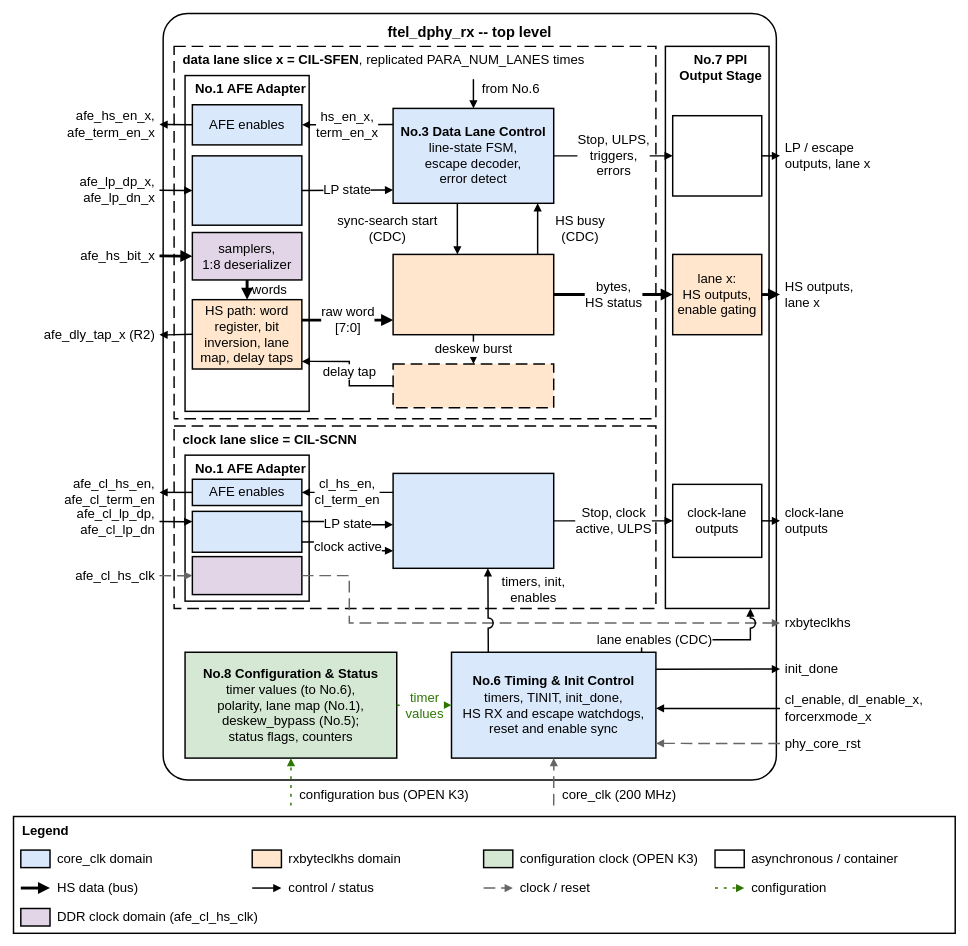
The diagram is 968 pixels wide and 946 high, and some of its shapes have lost their labels. Each missing label, with the centre of its shape:
"byte clock, /4 and gate" goes at point (246, 575).
"lane x: LP, escape, errors" goes at point (717, 155).
"LP path, clock activity" goes at point (246, 531).
"LP path: sync, filter, P/N swap, lane map" goes at point (246, 190).
"No.2 Clock Lane Control HS entry / exit, ULPS FSM" goes at point (473, 520).
"No.4 HS Receive Datapath sync search, byte align, deskew detect, EoT trailer" goes at point (473, 294).
"No.5 Deskew Controller R2 only" goes at point (473, 385).
